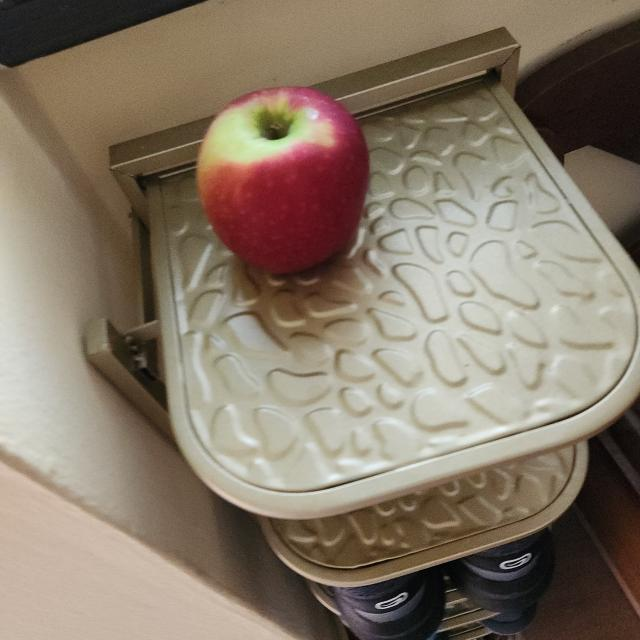apple: (190, 83, 374, 289)
